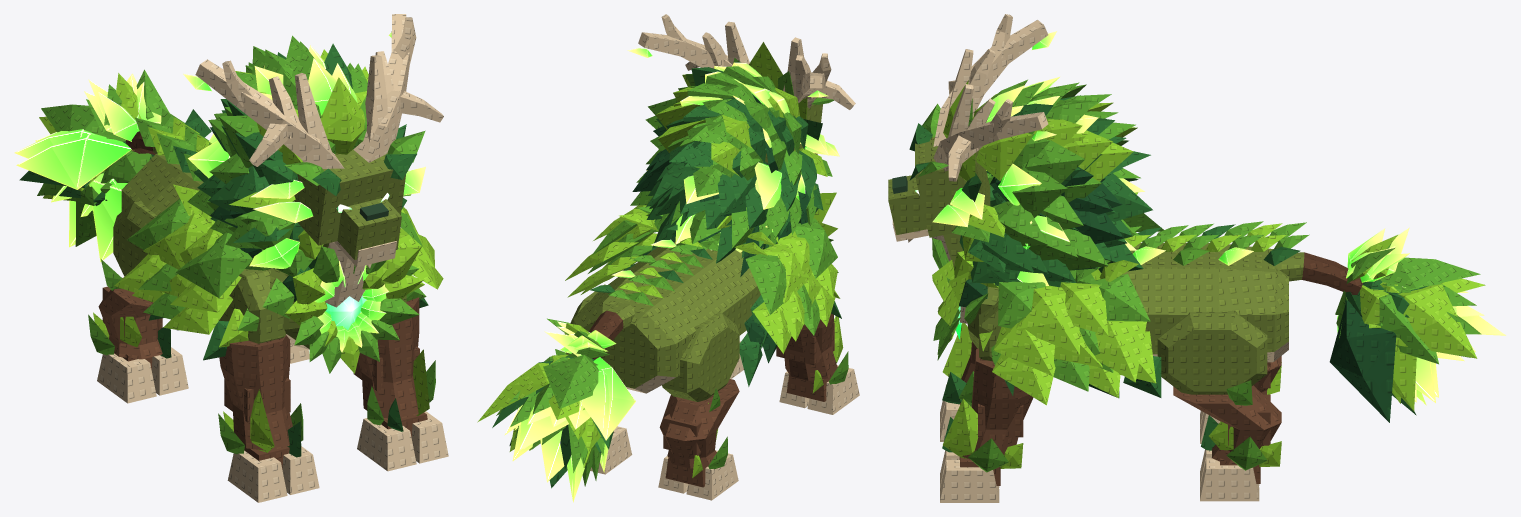
Rendered from Qilin.fbx.
3 views of the same model, side by side, from view 1: azimuth 30°, elevation 25°; view 2: azimuth 150°, elevation 25°; view 3: azimuth 270°, elevation 25° (orthographic). The views are drawn at different scales.
Visible parts, largest first — view 1: Qilin_Body, Qilin_Glow; view 2: Qilin_Body, Qilin_Glow; view 3: Qilin_Body, Qilin_Glow.
Part boxes in pixels (x1,y1,x2,y2): Qilin_Body: (19, 14, 448, 502); Qilin_Glow: (14, 32, 425, 352); Qilin_Body: (477, 14, 859, 500); Qilin_Glow: (504, 48, 839, 502); Qilin_Body: (888, 14, 1485, 502); Qilin_Glow: (915, 31, 1505, 405).
Bounding box in the file's own units: 1088 × 1564 × 2189.
Materials: 1 (1 with a texture image).
